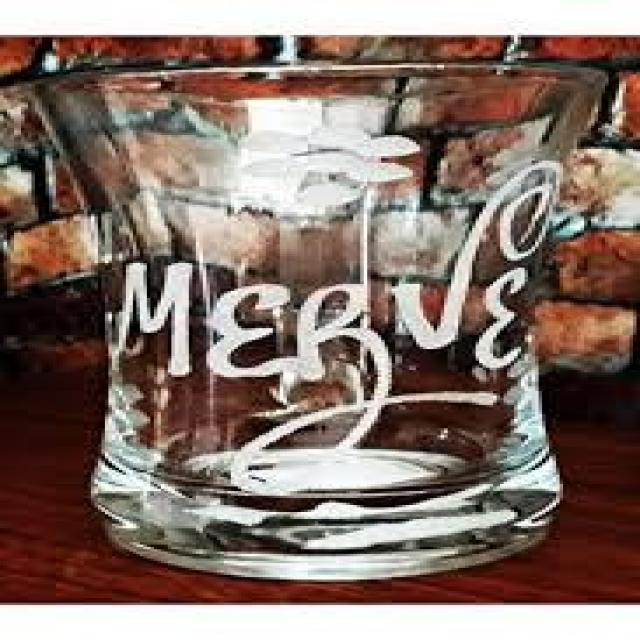non-organic waste: (36, 66, 614, 581)
